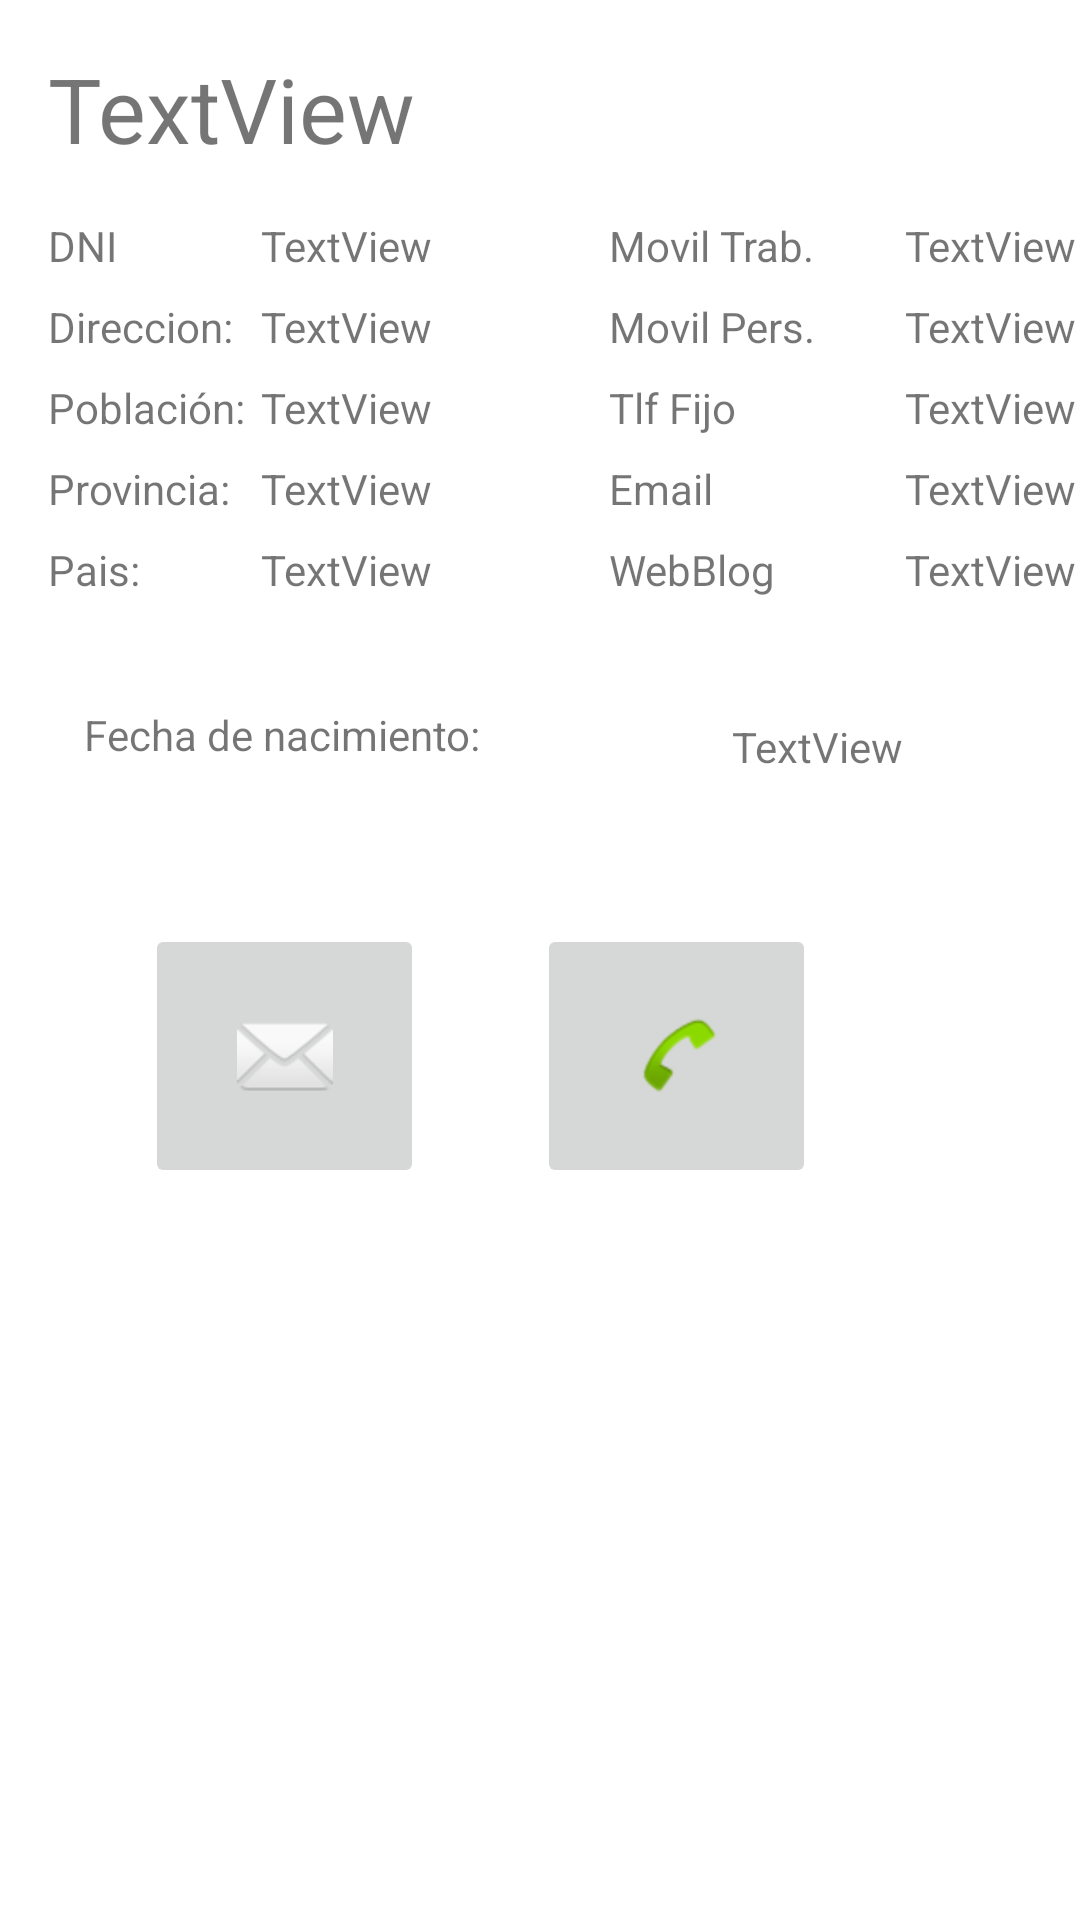

Screen size 1080*1920. Icon name, then its center in pixels as point (x, y):
email: point (284, 1056)
sym action call: point (676, 1056)
